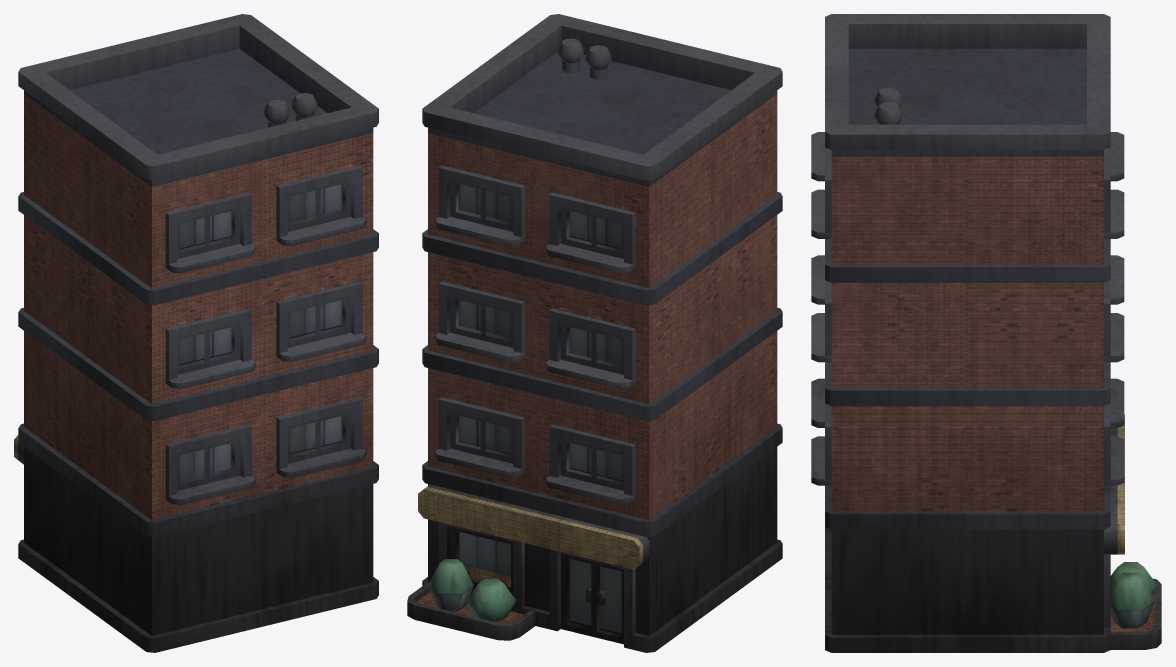
Rendered from building-f-brown.glb.
3 renders of one model, left to right at view 1: azimuth 30°, elevation 25°; view 2: azimuth 150°, elevation 25°; view 3: azimuth 270°, elevation 25°, orthographic. The views are drawn at different scales.
Parts seen in each view (by area): view 1: building-f; view 2: building-f; view 3: building-f.
Part boxes in pixels (x1=…): building-f: x1=14, y1=14, x2=378, y2=652; building-f: x1=407, y1=14, x2=782, y2=652; building-f: x1=811, y1=14, x2=1161, y2=652.
Bounding box in the file's own units: 0.84 × 1.69 × 1.03.
Materials: 1 (1 with a texture image).
